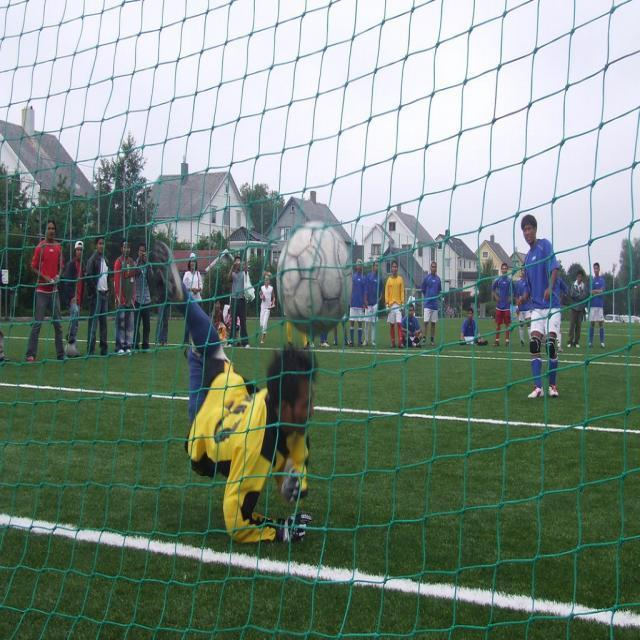football: (262, 207, 368, 337)
